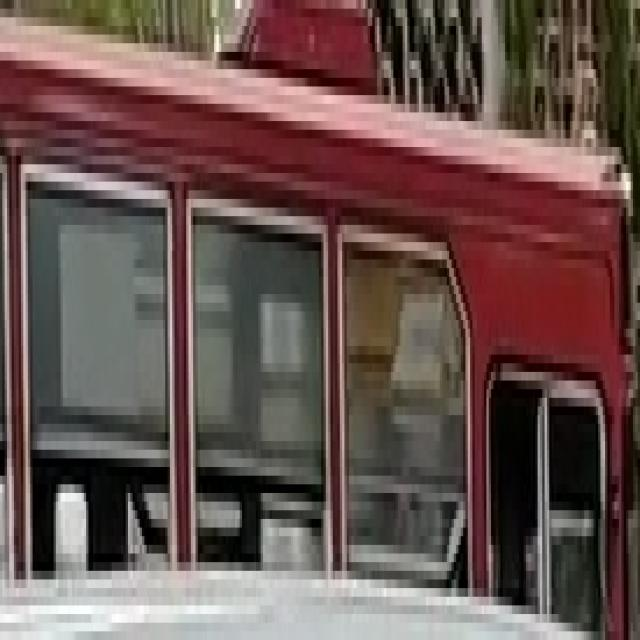tyre: (0, 0, 637, 631)
